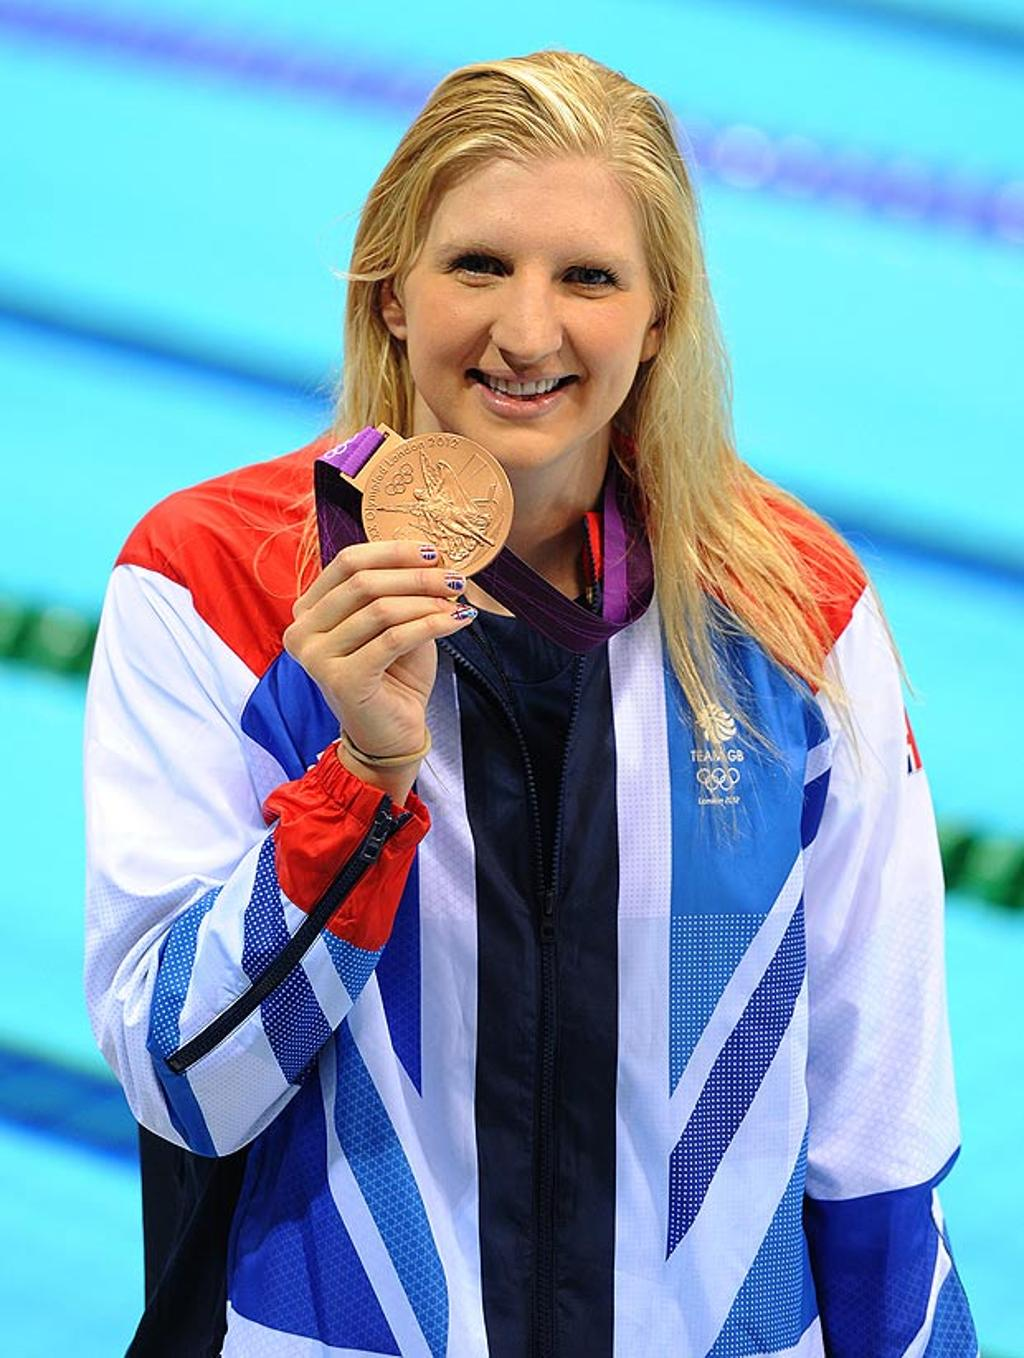face: (403, 180, 642, 467)
